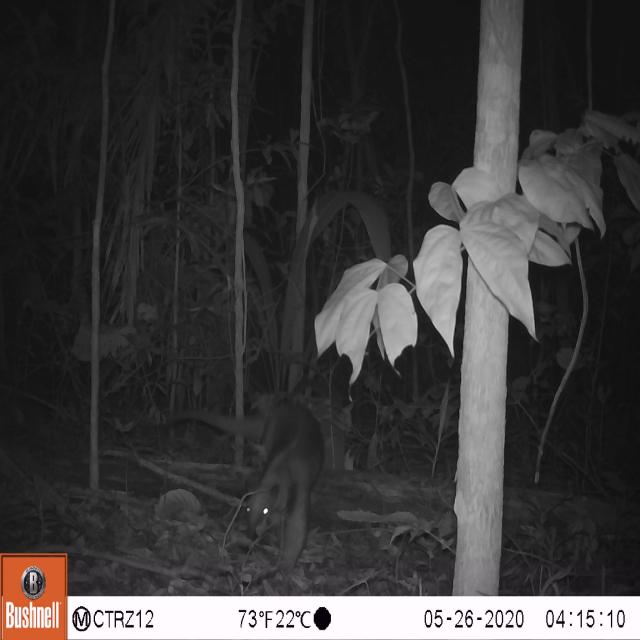Southern Tamandua: (241, 385, 327, 578)
